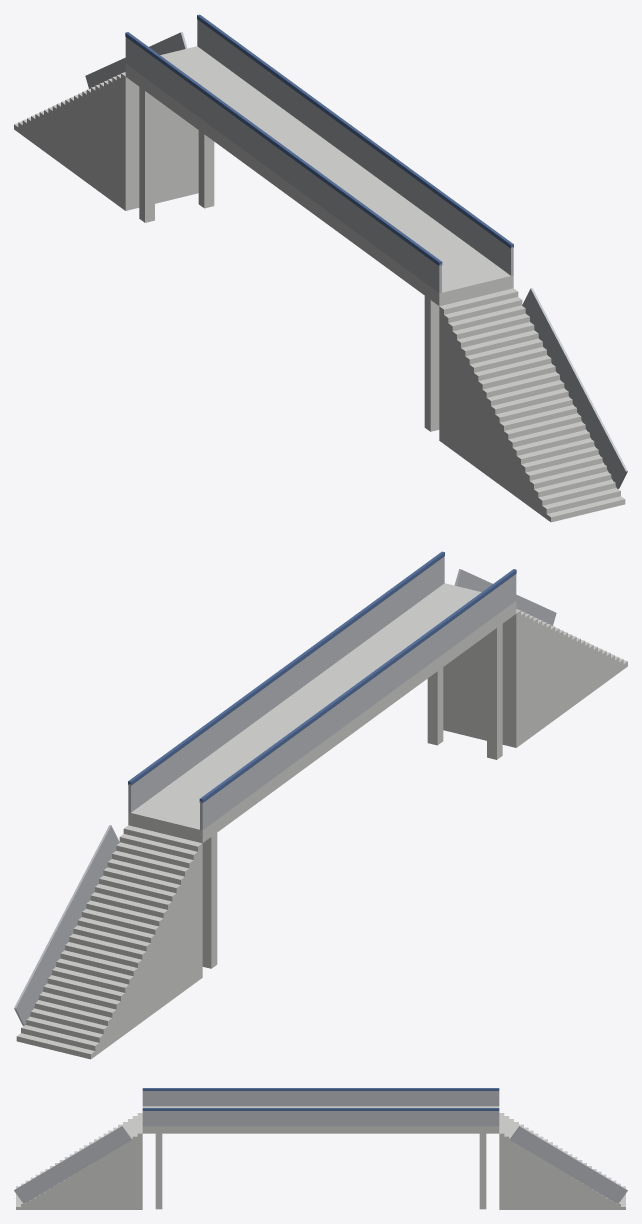
File: ped_bridge.glb
3 views of the same model, one above another, from view 1: azimuth 30°, elevation 25°; view 2: azimuth 150°, elevation 25°; view 3: azimuth 270°, elevation 25° (orthographic). The views are drawn at different scales.
Visible parts, largest first — view 1: ped_bridge; view 2: ped_bridge; view 3: ped_bridge.
Boxes of the visible parts, x1=… form: ped_bridge: x1=14, y1=14, x2=627, y2=522; ped_bridge: x1=14, y1=551, x2=627, y2=1059; ped_bridge: x1=14, y1=1088, x2=627, y2=1209.
Size of the model in its own units: 3.05 by 6.9 by 37.9.
